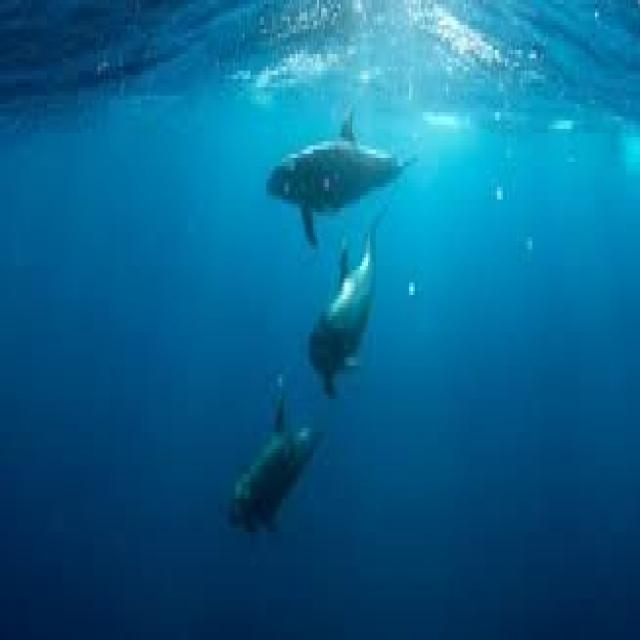dolphin: (211, 399, 327, 582), (255, 113, 434, 225), (304, 224, 406, 378)
